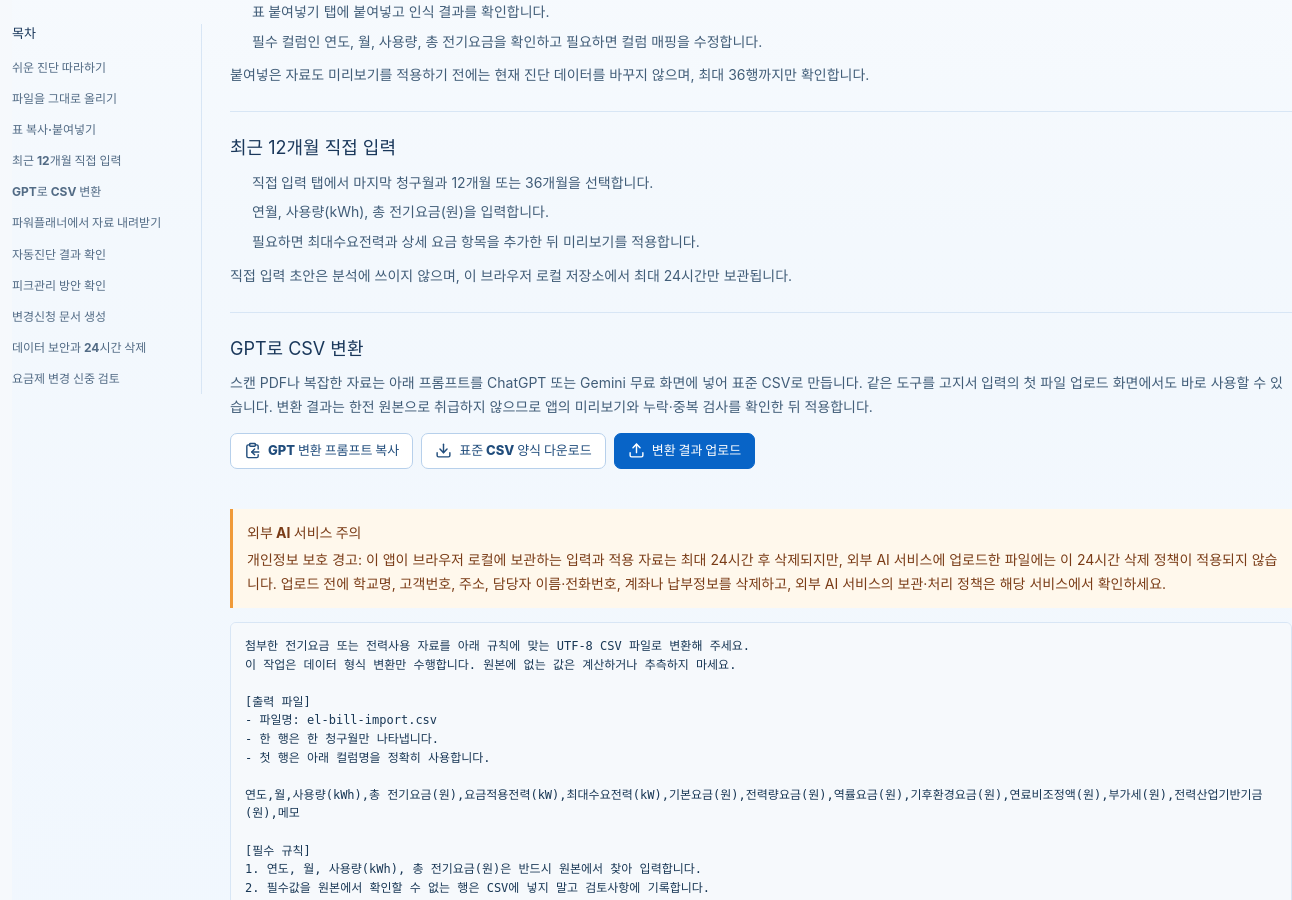
Test: UsageGuide › reports clipboard failure without announcing a successful copy
This screenshot has width=1292, height=900.
(page scrolled)
Click the button "GPT 변환 프롬프트 복사": [322, 451] box [230,433,413,469]
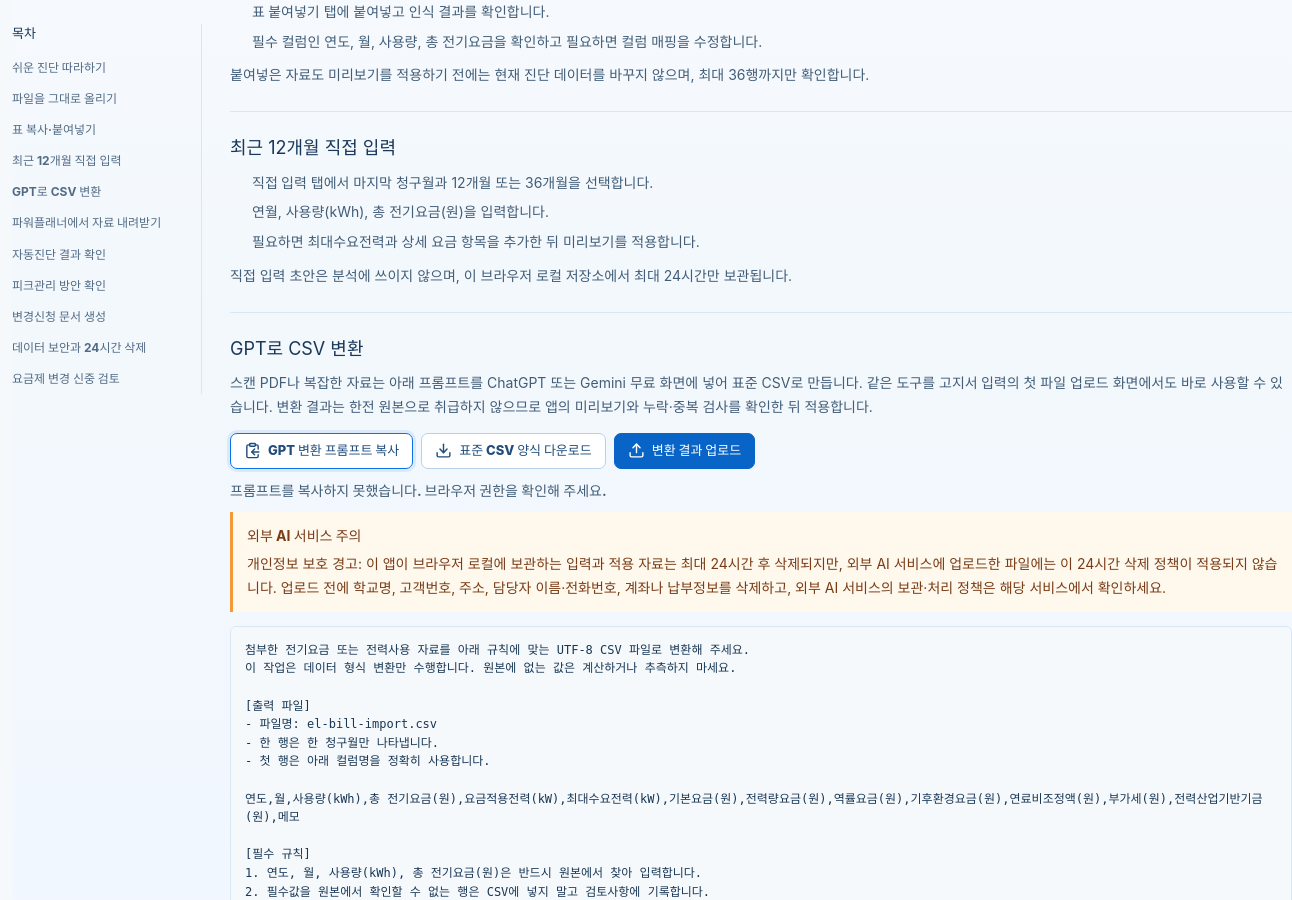
Expected: the message shows "프롬프트를 복사하지 못했습니다", [230,482,607,499]
